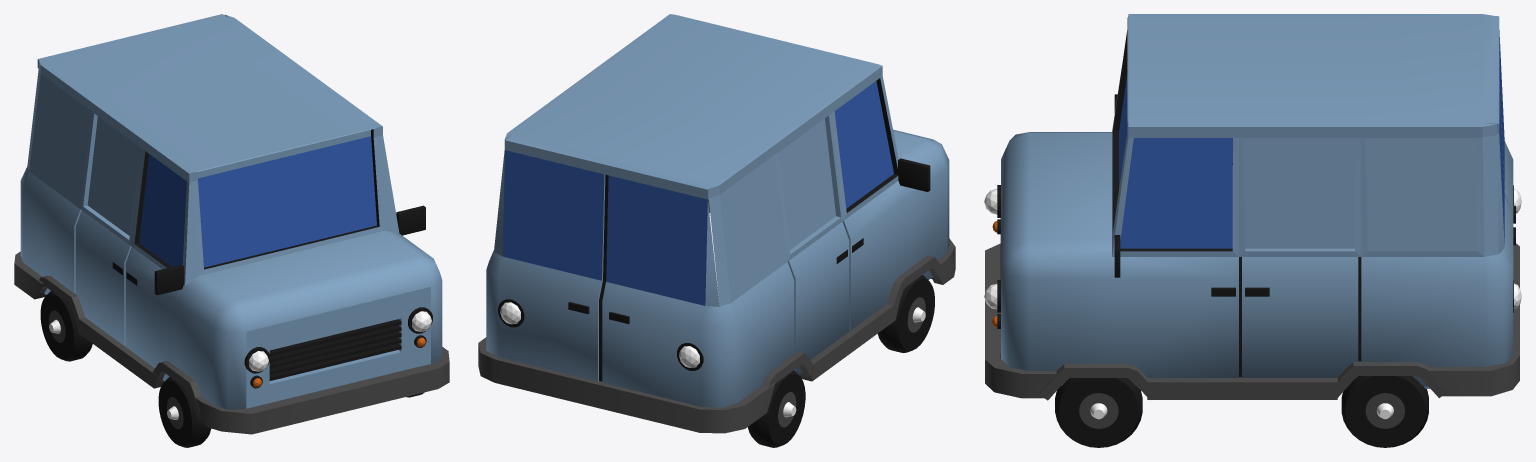
3 views of the same model, side by side, from view 1: azimuth 30°, elevation 25°; view 2: azimuth 150°, elevation 25°; view 3: azimuth 270°, elevation 25° (orthographic). The views are drawn at different scales.
Parts seen in each view (by area): view 1: Van_1387, Van_1387.003; view 2: Van_1387, Van_1387.002, Van_1387.001, Van_1387.003; view 3: Van_1387, Van_1387.003, Van_1387.001, Van_1387.002.
Boxes of the visible parts, x1,y1,x2,y2 form: Van_1387: (14, 14, 449, 434); Van_1387.003: (40, 291, 424, 447); Van_1387: (478, 14, 955, 433); Van_1387.002: (602, 175, 707, 406); Van_1387.001: (498, 150, 604, 381); Van_1387.003: (748, 275, 934, 447); Van_1387: (984, 14, 1519, 400); Van_1387.003: (1055, 376, 1428, 447); Van_1387.001: (1499, 85, 1521, 312); Van_1387.002: (1499, 30, 1521, 223).
Size of the model in its own units: 36.22 by 33.64 by 52.51.
